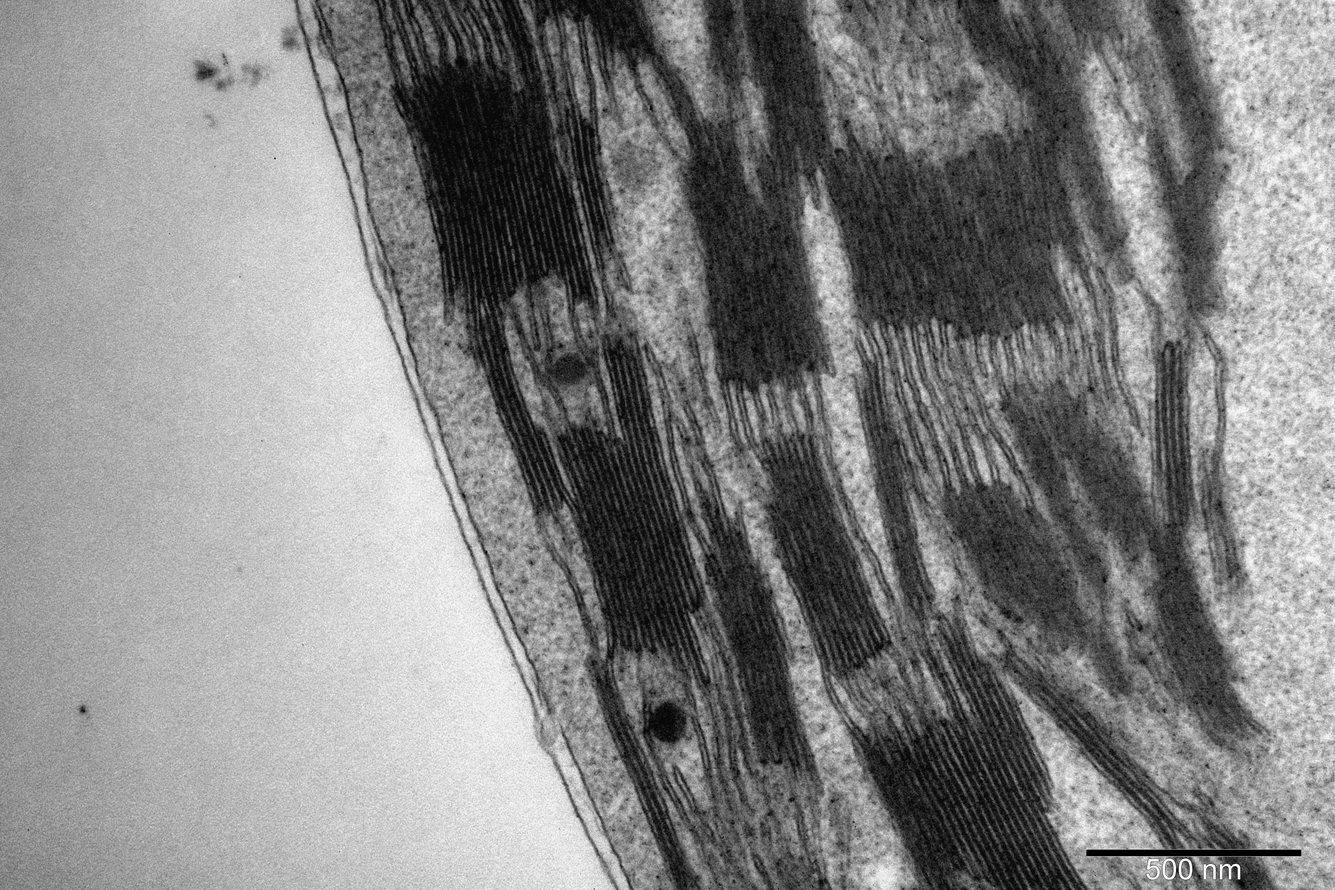granum: (849, 617, 1090, 890), (390, 0, 600, 307), (822, 131, 1084, 339), (552, 343, 711, 677), (673, 120, 838, 382), (957, 0, 1128, 249), (940, 480, 1132, 694), (753, 435, 892, 676), (697, 500, 818, 772), (1013, 662, 1187, 840), (1143, 0, 1227, 316), (1153, 520, 1261, 746), (588, 667, 698, 886), (998, 390, 1110, 588), (1037, 380, 1156, 564), (854, 366, 939, 615), (464, 312, 567, 517), (740, 0, 833, 217), (555, 102, 619, 251), (1151, 343, 1194, 519), (529, 0, 656, 57), (1195, 449, 1247, 586), (1201, 822, 1282, 890), (704, 0, 746, 83), (1061, 0, 1122, 41)
